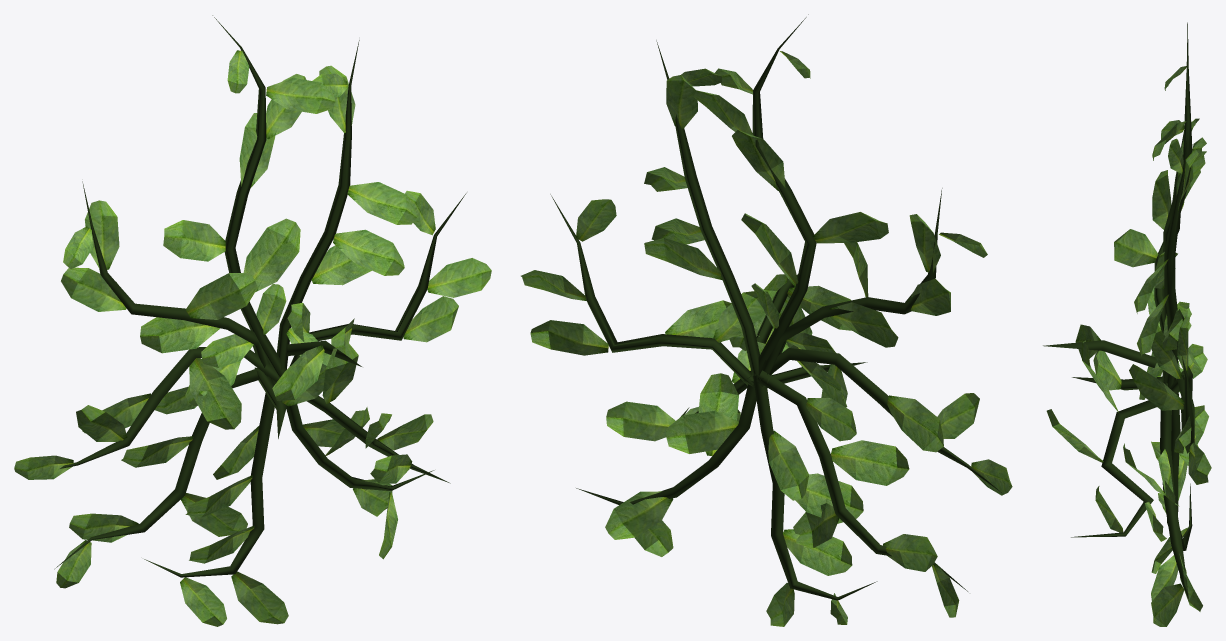
Rendered from polygonum_02.obj.
3 views of the same model, side by side, from view 1: azimuth 30°, elevation 25°; view 2: azimuth 150°, elevation 25°; view 3: azimuth 270°, elevation 25° (orthographic). The views are drawn at different scales.
Parts seen in each view (by area): view 1: polygonum; view 2: polygonum; view 3: polygonum.
Part boxes in pixels (box(x1,y1,x2,y2)): polygonum: box(14, 15, 491, 626); polygonum: box(521, 14, 1012, 626); polygonum: box(1043, 22, 1211, 626).
Bounding box in the file's own units: 0.3206 × 0.3949 × 0.1055.
